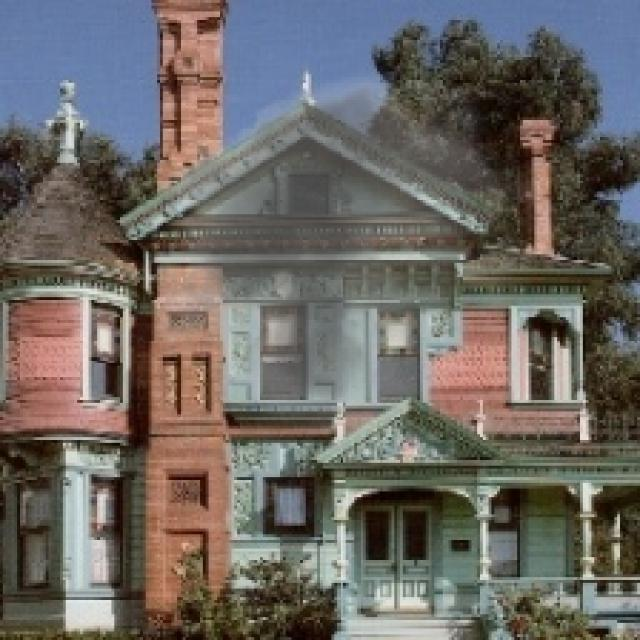smoke: (132, 57, 552, 437)
